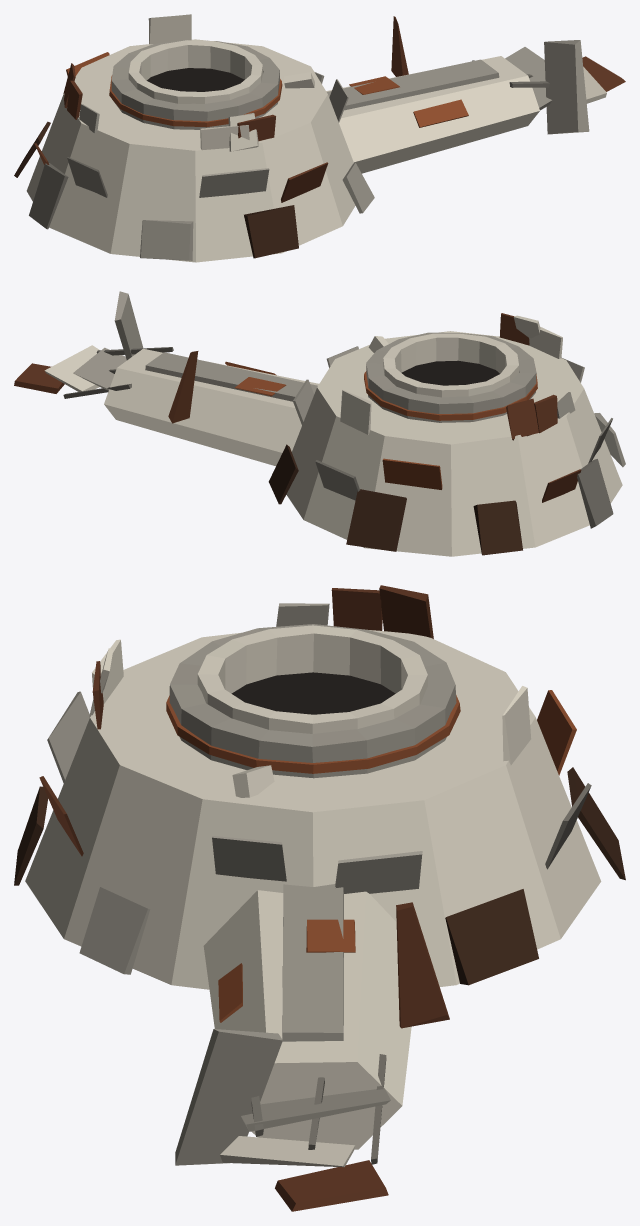
Rendered from ship_hub.glb.
The picture shows the model from 3 angles, top to bottom: view 1: azimuth 30°, elevation 25°; view 2: azimuth 150°, elevation 25°; view 3: azimuth 270°, elevation 25°; orthographic projection. The views are drawn at different scales.
Visible parts, largest first — view 1: ship_hub; view 2: ship_hub; view 3: ship_hub.
Part boxes in pixels (x1,y1,x2,y2): ship_hub: (14, 14, 625, 262); ship_hub: (14, 291, 625, 556); ship_hub: (14, 585, 625, 1211).
Bounding box in the file's own units: 94.51 × 21.17 × 51.22.
